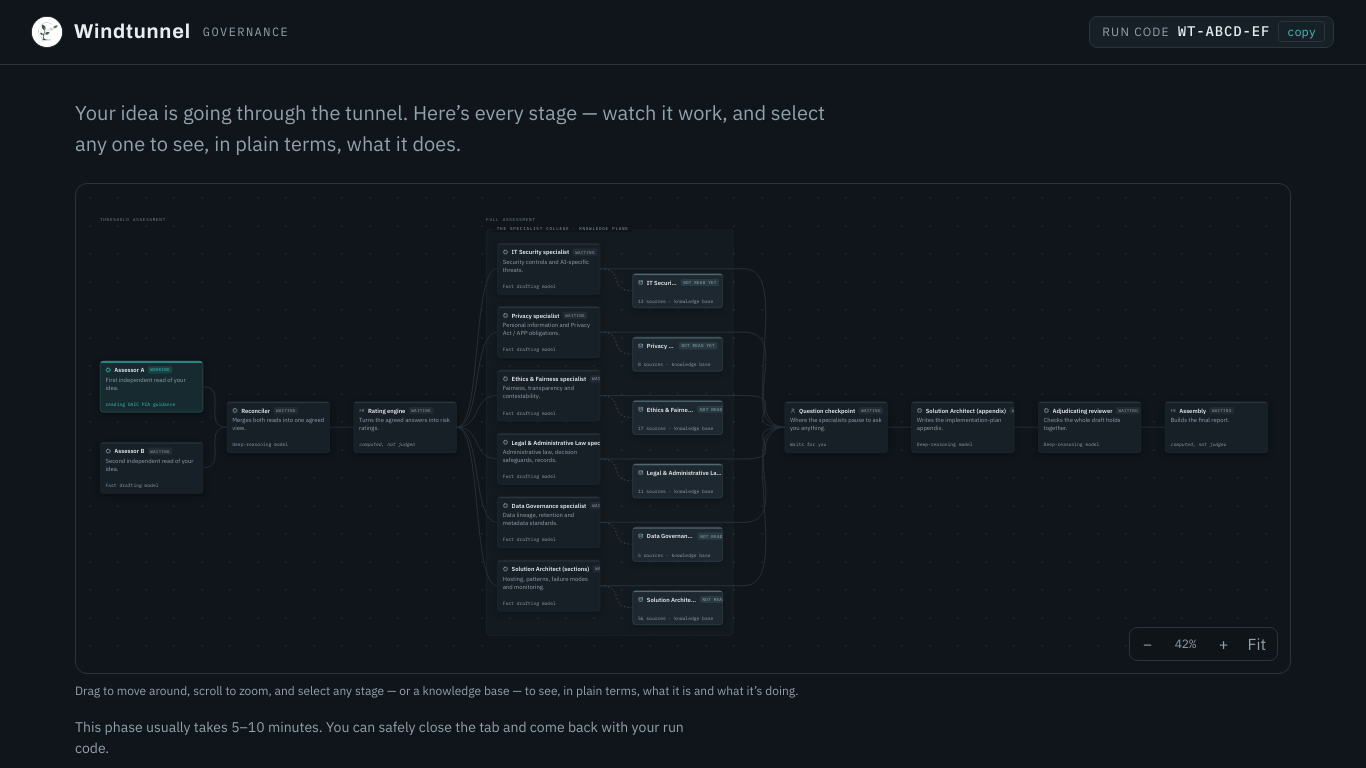
Test: Chamber state routing › running: selecting a stage opens its plain-language detail with the sources it read
Open the Assessor A stage from the graph (its accessible name carries state).
Click the button with aria-label "Assessor A — working" at {"x": 152, "y": 386}, box [100,361,203,412]
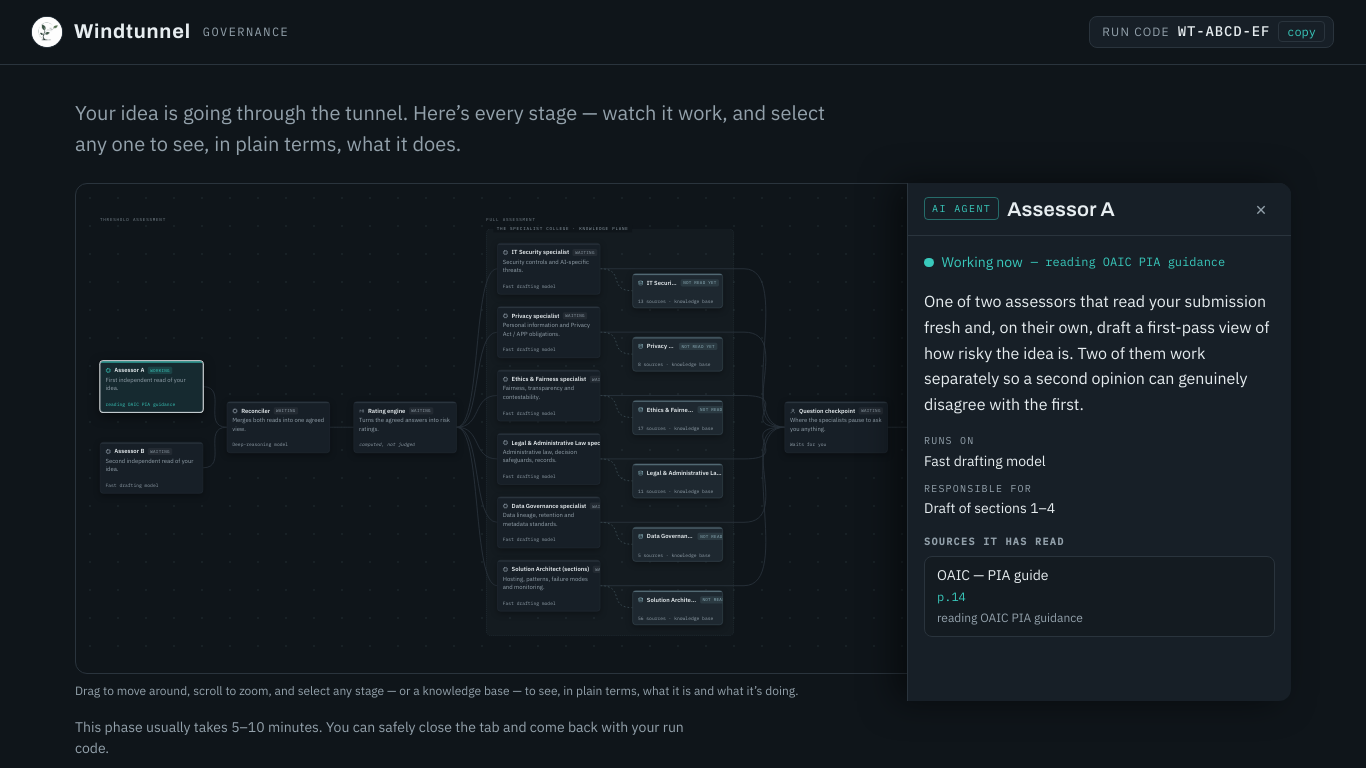
Check: the text "two assessors that read your submission fresh" is shown, box [924,291,1269,414]
Check: the text "OAIC — PIA guide" is shown, box [937,566,1048,584]
Check: the text "p.14" is shown, box [937,589,966,604]
